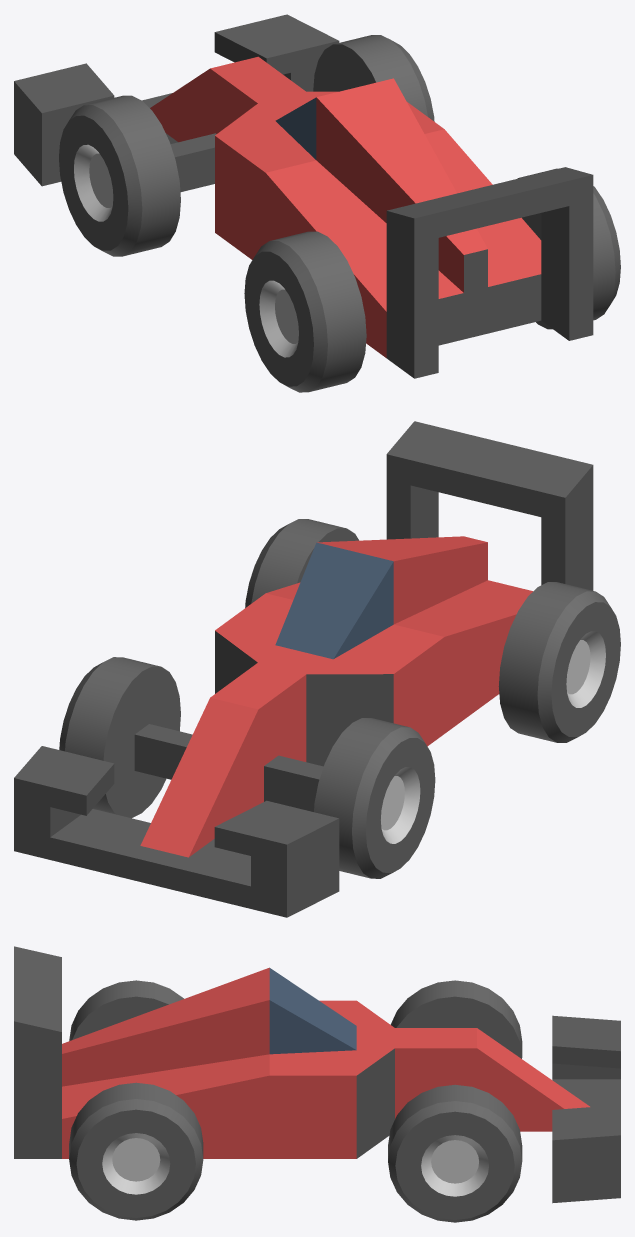
File: carFormula.obj
The picture shows the model from 3 angles, top to bottom: view 1: azimuth 30°, elevation 25°; view 2: azimuth 150°, elevation 25°; view 3: azimuth 270°, elevation 25°; orthographic projection. The views are drawn at different scales.
Visible parts, largest first — view 1: body 2, wheelBackLeft 2, wheelFrontLeft 2, wheelFrontRight 2, wheelBackRight 2; view 2: body 2, wheelBackLeft 2, wheelFrontLeft 2, wheelFrontRight 2, wheelBackRight 2; view 3: body 2, wheelFrontRight 2, wheelBackRight 2, wheelFrontLeft 2, wheelBackLeft 2.
Part boxes in pixels (bbox=[...]): body 2: bbox=[14, 14, 593, 378]; wheelBackLeft 2: bbox=[244, 231, 366, 392]; wheelFrontLeft 2: bbox=[59, 95, 180, 256]; wheelFrontRight 2: bbox=[313, 35, 434, 121]; wheelBackRight 2: bbox=[517, 168, 620, 329]; body 2: bbox=[14, 421, 593, 917]; wheelBackLeft 2: bbox=[498, 582, 620, 742]; wheelFrontLeft 2: bbox=[314, 718, 435, 878]; wheelFrontRight 2: bbox=[59, 657, 180, 818]; wheelBackRight 2: bbox=[245, 519, 358, 607]; body 2: bbox=[14, 946, 620, 1203]; wheelFrontRight 2: bbox=[388, 1084, 522, 1222]; wheelBackRight 2: bbox=[69, 1082, 203, 1220]; wheelFrontLeft 2: bbox=[390, 980, 522, 1058]; wheelBackLeft 2: bbox=[69, 980, 183, 1040].
Size of the model in its own units: 6.35 by 4.11 by 12.66.
